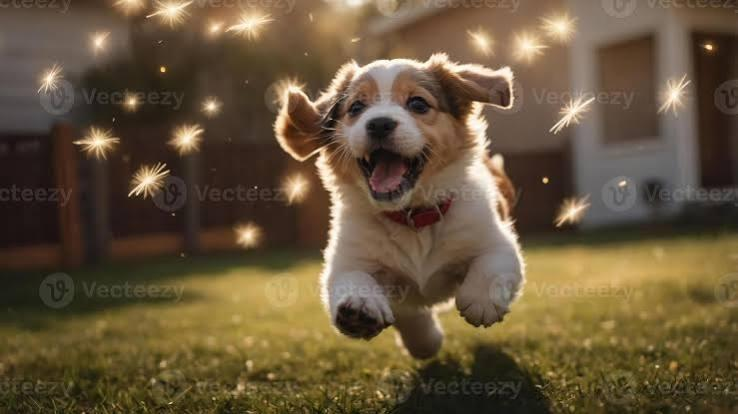puppy-dog: (274, 51, 526, 360)
